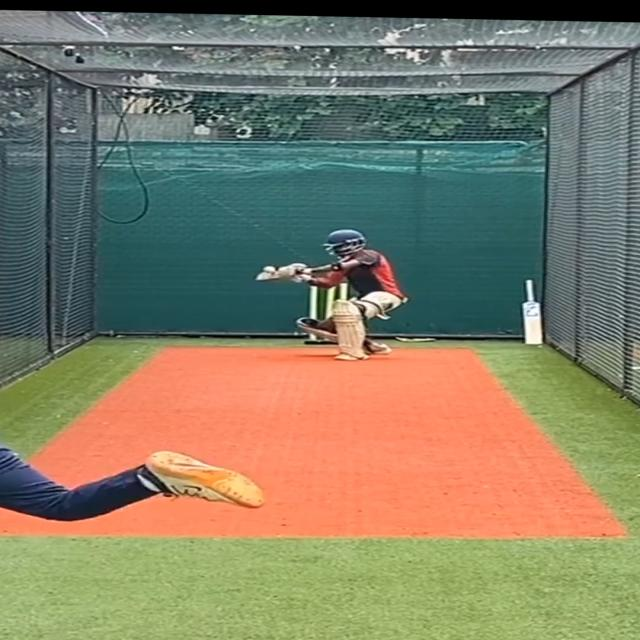ball: (259, 264, 280, 276)
stump: (306, 281, 349, 346)
